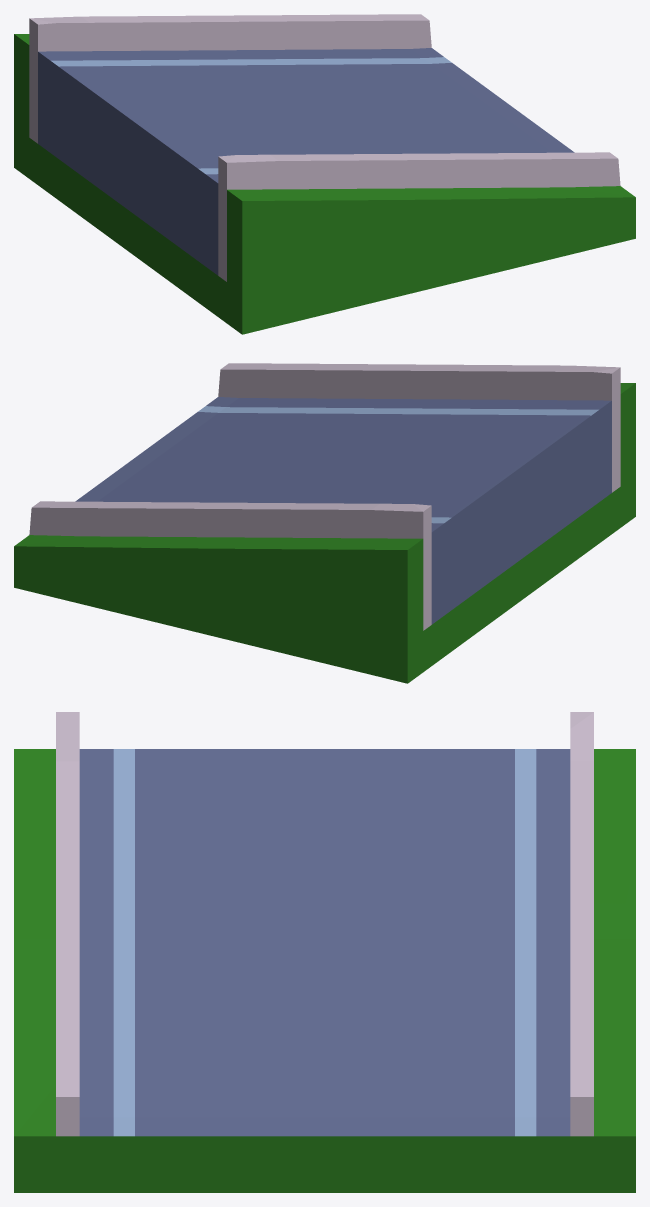
The model's file is Inclined Base.fbx.
The picture shows the model from 3 angles, top to bottom: view 1: azimuth 30°, elevation 25°; view 2: azimuth 150°, elevation 25°; view 3: azimuth 270°, elevation 25°; orthographic projection. The views are drawn at different scales.
Visible parts, largest first — view 1: Box010; view 2: Box010; view 3: Box010.
Boxes of the visible parts, x1,y1,x2,y2 form: Box010: (14,14,635,334); Box010: (14,363,635,683); Box010: (14,712,635,1192).
Bounding box in the file's own units: 50.26 × 19.6 × 50.47.
